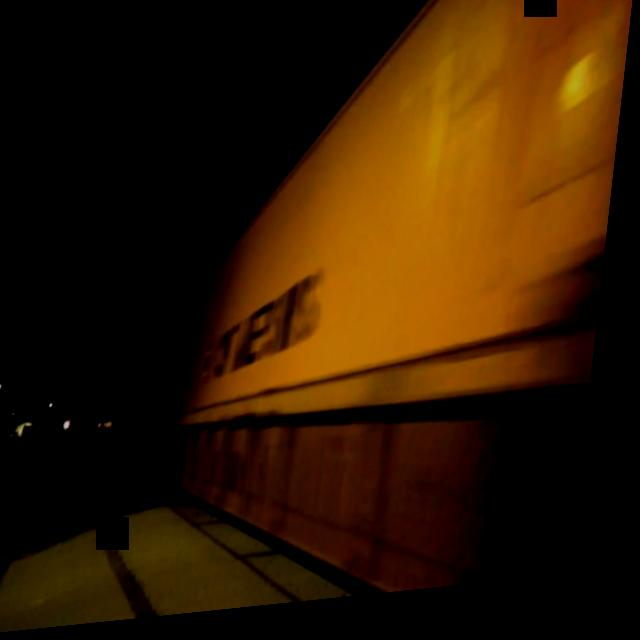container: (174, 0, 640, 432)
flatcar: (149, 323, 607, 623)
